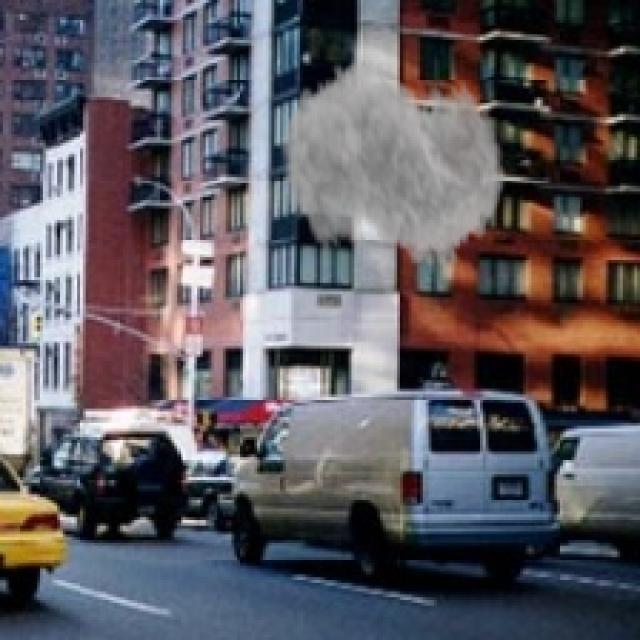smoke: (280, 40, 506, 294)
